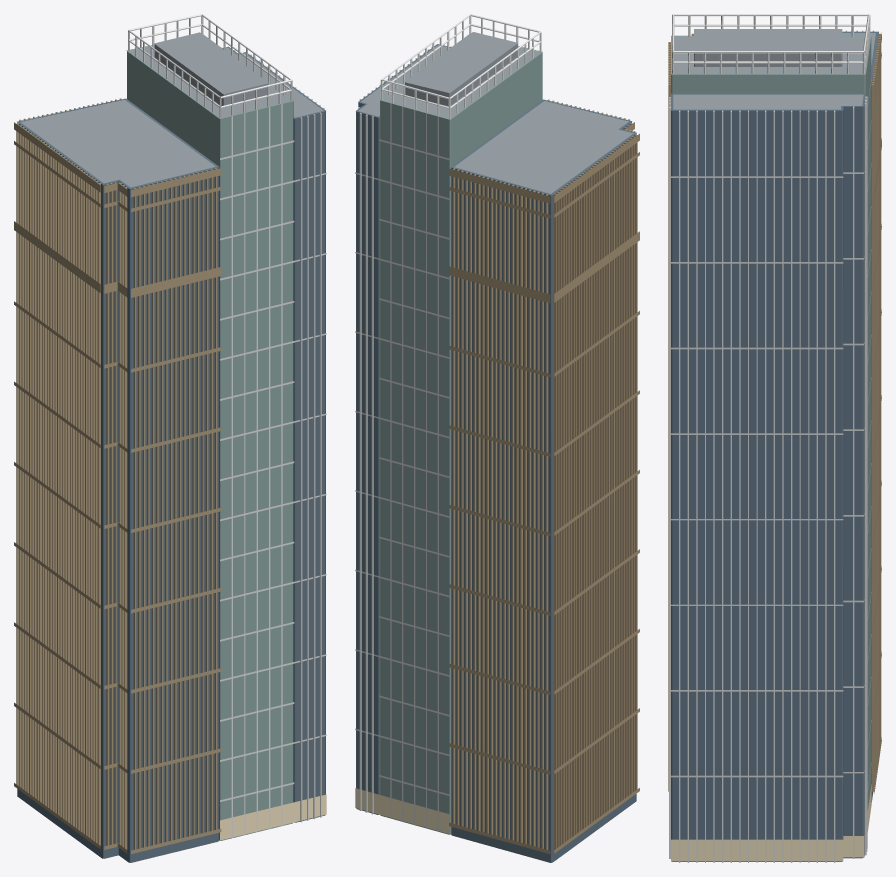
Rendered from tokyo-midtown-tower.detail.glb.
3 views of the same model, side by side, from view 1: azimuth 30°, elevation 25°; view 2: azimuth 150°, elevation 25°; view 3: azimuth 270°, elevation 25° (orthographic). The views are drawn at different scales.
Visible parts, largest first — view 1: Tokyo Midtown Tower; view 2: Tokyo Midtown Tower; view 3: Tokyo Midtown Tower.
Boxes of the visible parts, left/top/right/bottom form: Tokyo Midtown Tower: left=14, top=14, right=326, bottom=862; Tokyo Midtown Tower: left=355, top=14, right=639, bottom=862; Tokyo Midtown Tower: left=668, top=14, right=881, bottom=862.
Bounding box in the file's own units: 75.75 × 248 × 60.62.
